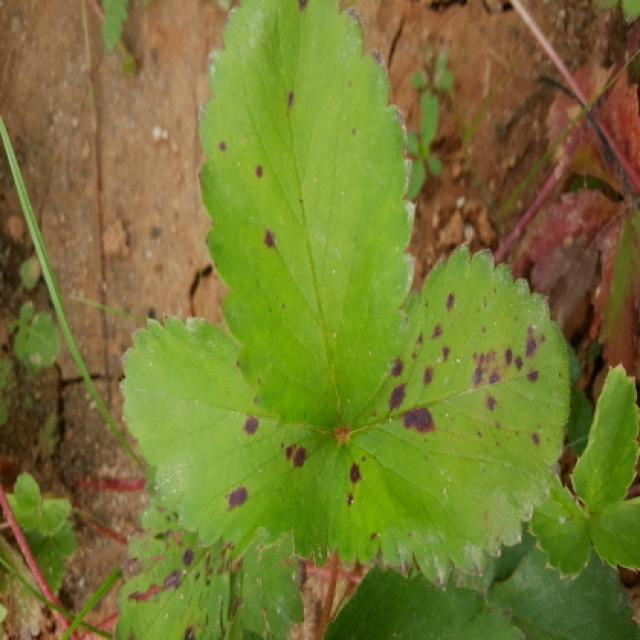Leaf Spot: (197, 0, 419, 435), (328, 244, 571, 591), (118, 314, 338, 569), (114, 499, 306, 638)
